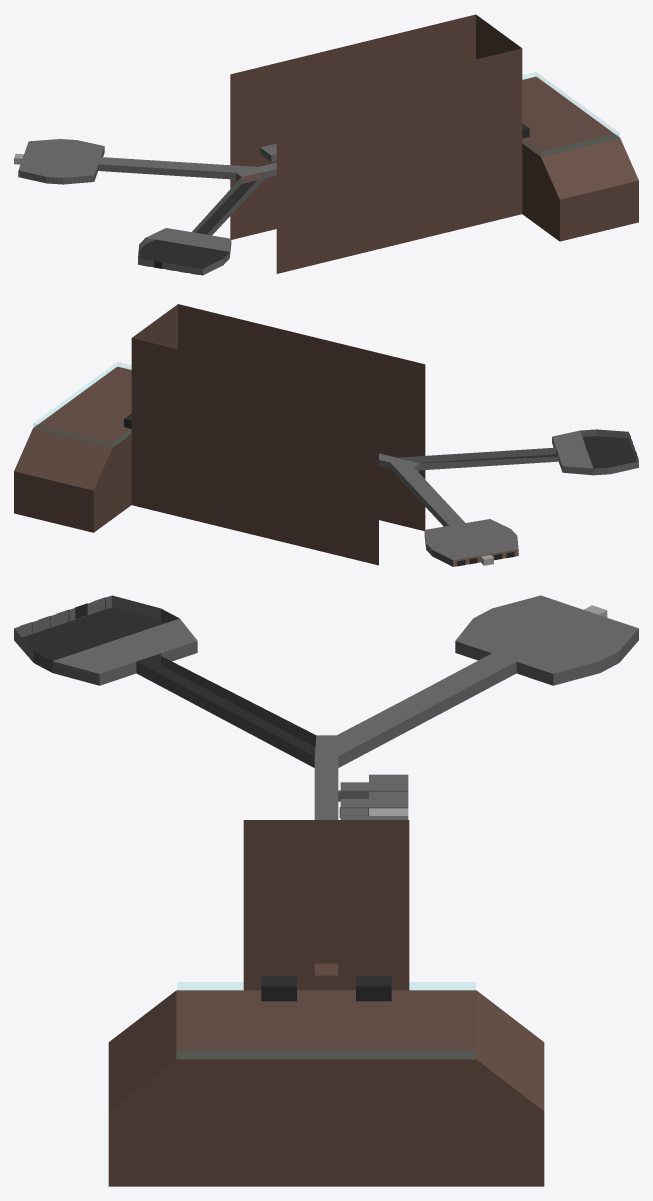
File: New_nivel3.fbx
3 renders of one model, top to bottom at view 1: azimuth 30°, elevation 25°; view 2: azimuth 150°, elevation 25°; view 3: azimuth 270°, elevation 25°, orthographic. The views are drawn at different scales.
Visible parts, largest first — view 1: polySurface1880; view 2: polySurface1880; view 3: polySurface1880.
Part boxes in pixels (x1,y1,x2,y2): polySurface1880: [14, 14, 638, 275]; polySurface1880: [14, 304, 638, 566]; polySurface1880: [14, 595, 638, 1186].
Bounding box in the file's own units: 22116 × 7010 × 13352.
